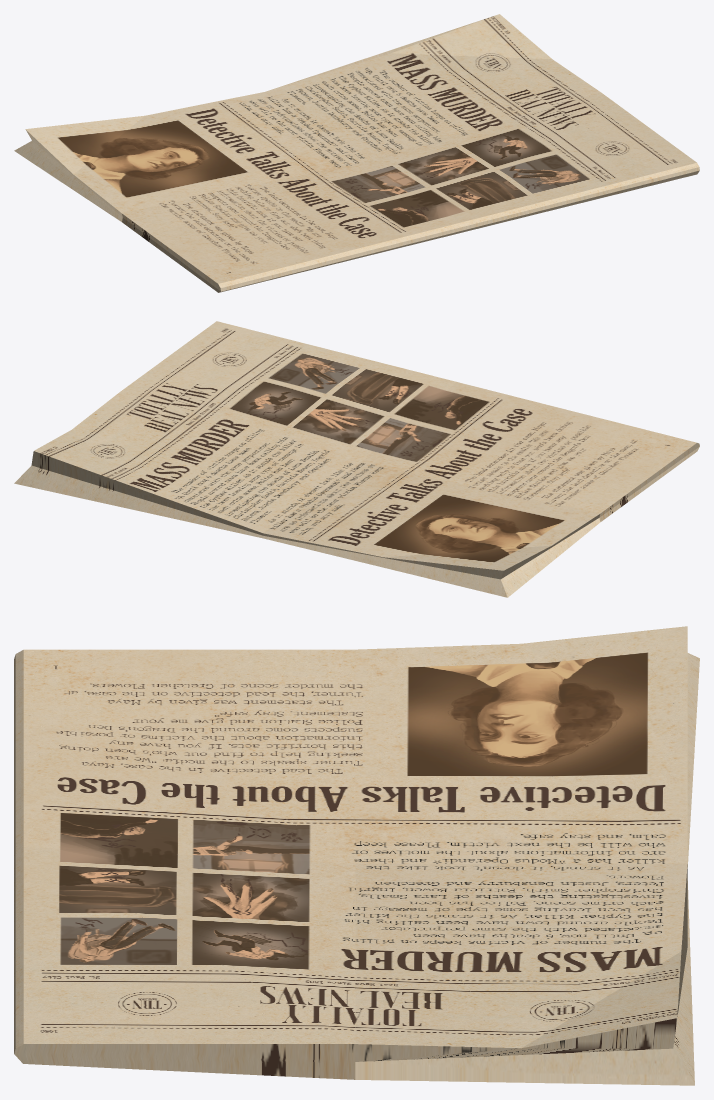
The model's file is newapaperopend.fbx.
3 renders of one model, top to bottom at view 1: azimuth 30°, elevation 25°; view 2: azimuth 150°, elevation 25°; view 3: azimuth 270°, elevation 25°, orthographic. The views are drawn at different scales.
Visible parts, largest first — view 1: Plane.004; view 2: Plane.004; view 3: Plane.004.
Part boxes in pixels (<box>): Plane.004: <box>14,14,699,292</box>; Plane.004: <box>14,321,699,597</box>; Plane.004: <box>14,626,699,1085</box>.
Size of the model in its own units: 46.61 by 2.91 by 32.61.
